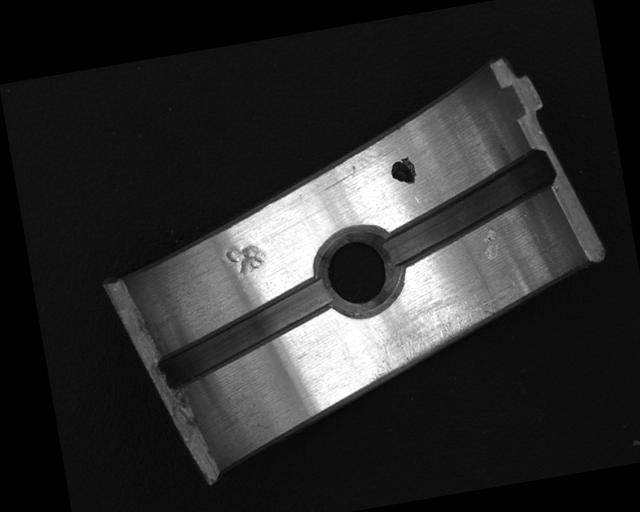blot: (388, 154, 418, 187)
bruise: (223, 239, 269, 278), (479, 226, 502, 263)
gap: (373, 146, 564, 265), (148, 276, 340, 390)
hole: (309, 220, 410, 322)
scratch: (355, 286, 514, 385)
